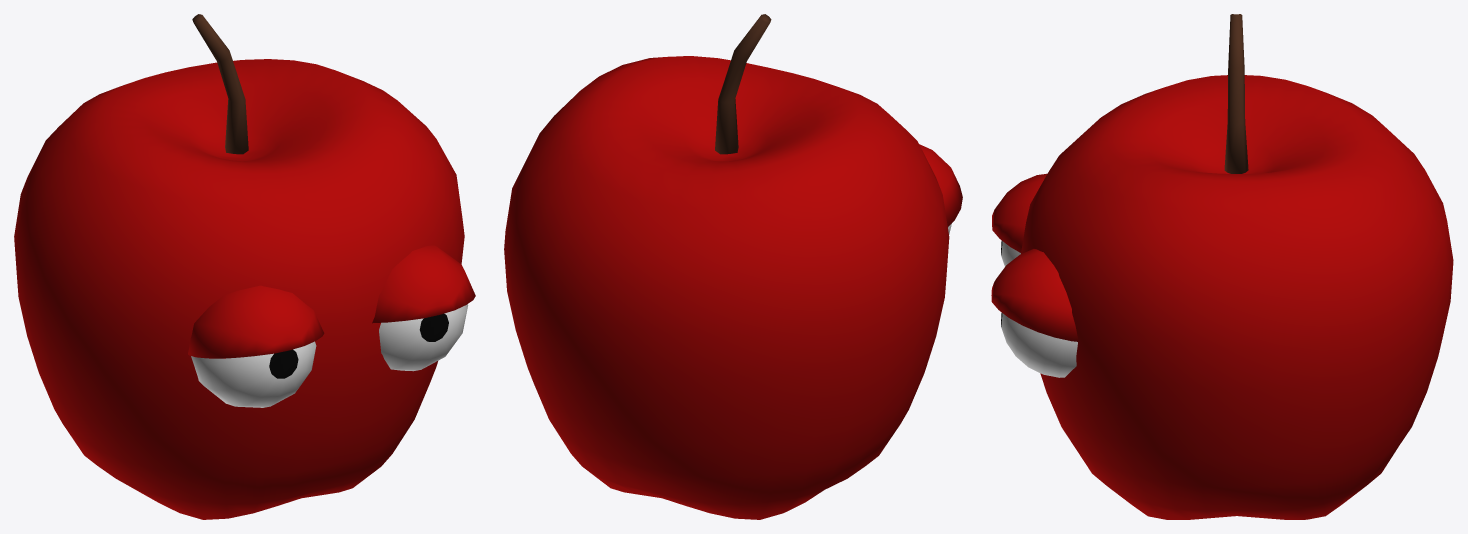
The model's file is Manzardo.fbx.
3 views of the same model, side by side, from view 1: azimuth 30°, elevation 25°; view 2: azimuth 150°, elevation 25°; view 3: azimuth 270°, elevation 25° (orthographic). The views are drawn at different scales.
Visible parts, largest first — view 1: Manzardo; view 2: Manzardo; view 3: Manzardo.
Part boxes in pixels (x1,y1,x2,y2): Manzardo: [14, 14, 475, 519]; Manzardo: [504, 14, 962, 519]; Manzardo: [991, 14, 1453, 519].
Bounding box in the file's own units: 0.4528 × 0.5257 × 0.4807.
